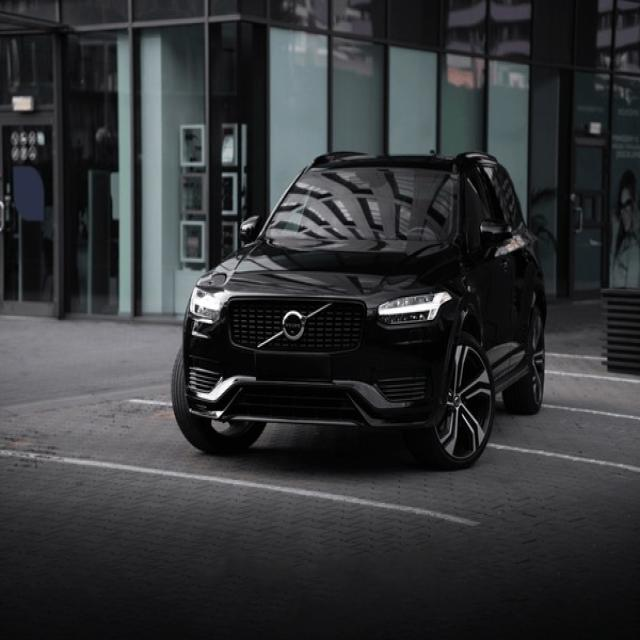volvo: (277, 309, 309, 340)
